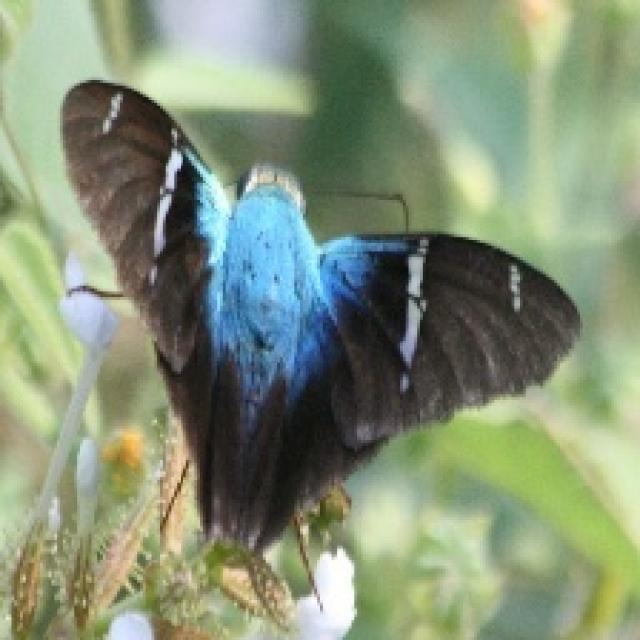butterfly: (64, 80, 580, 556)
